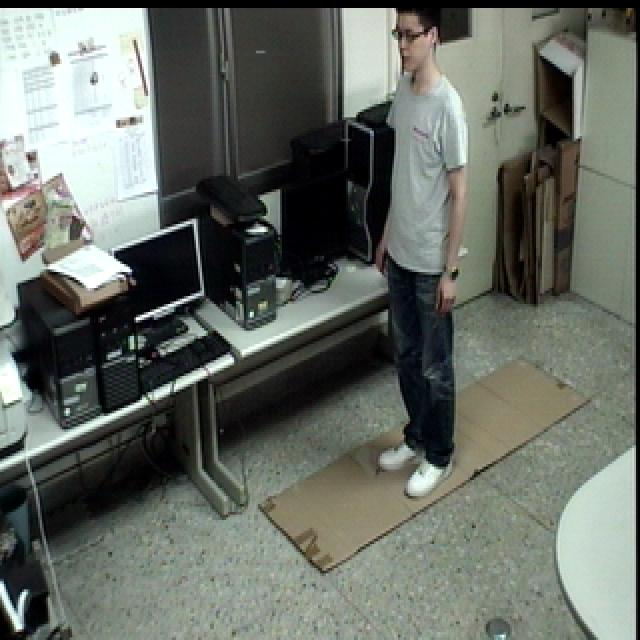stand: (370, 0, 476, 509)
